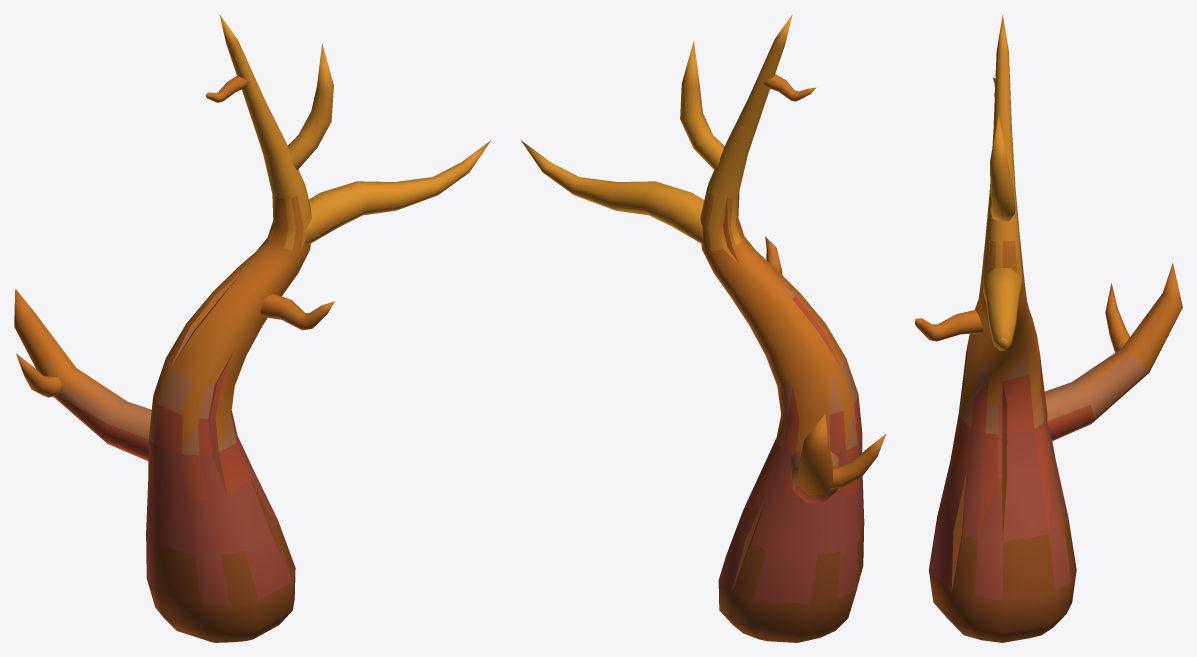
Rendered from itch_kaykit_forest_tree_bare_1_c_color1.glb.
3 renders of one model, left to right at view 1: azimuth 30°, elevation 25°; view 2: azimuth 150°, elevation 25°; view 3: azimuth 270°, elevation 25°, orthographic.
Visible parts, largest first — view 1: Tree_Bare_1_C_Color1; view 2: Tree_Bare_1_C_Color1; view 3: Tree_Bare_1_C_Color1.
Part boxes in pixels (x1,y1,x2,y2): Tree_Bare_1_C_Color1: (14, 14, 491, 642); Tree_Bare_1_C_Color1: (521, 14, 886, 642); Tree_Bare_1_C_Color1: (915, 15, 1182, 642).
Size of the model in its own units: 1.22 by 1.72 by 0.6772.
